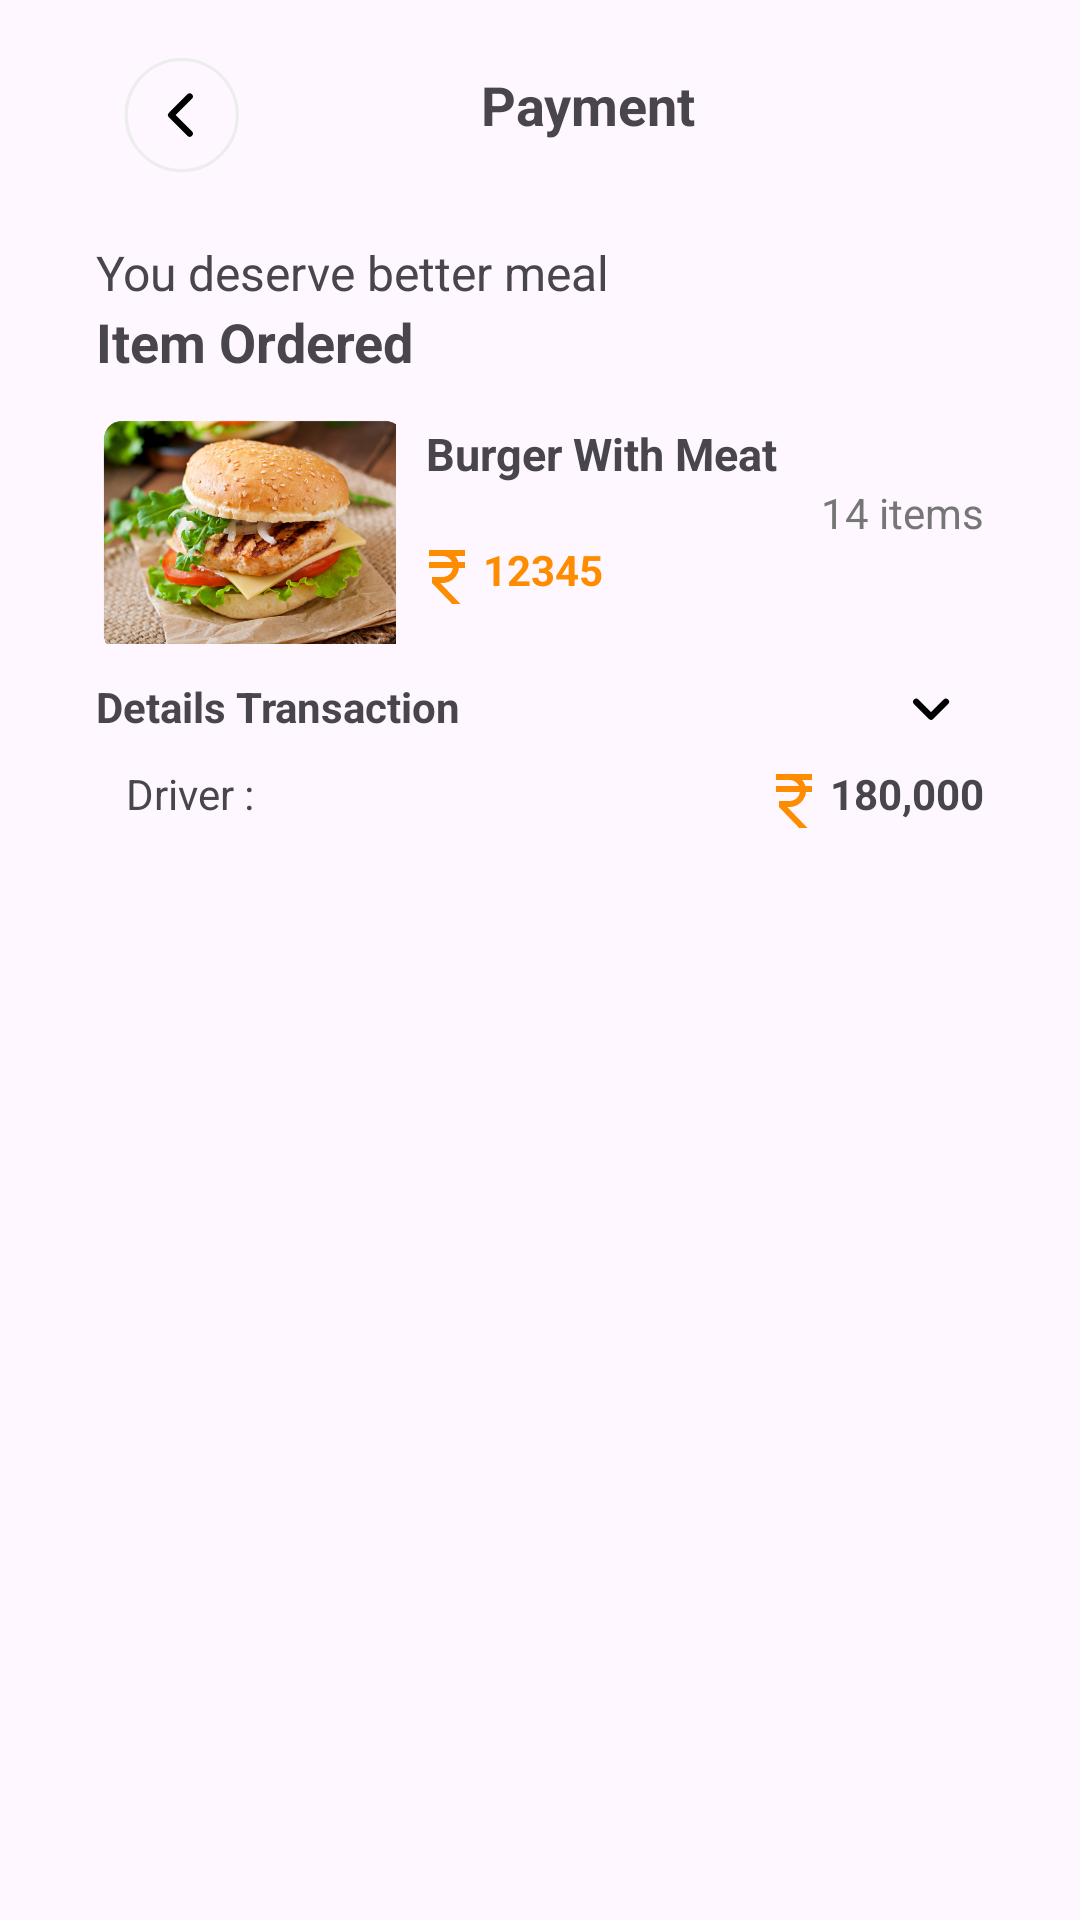

Icons on this 1080px×1920px Android screen, each with the point to tap as [x,y]:
downblk: [931,709]
leftblack: [180,115]
